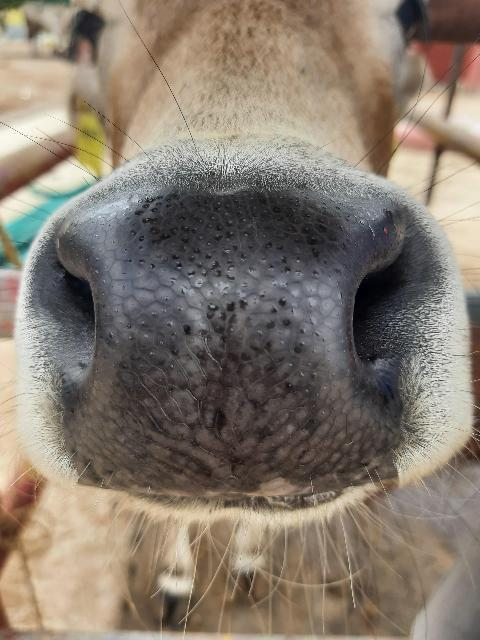Muzzle: (92, 208, 366, 488)
